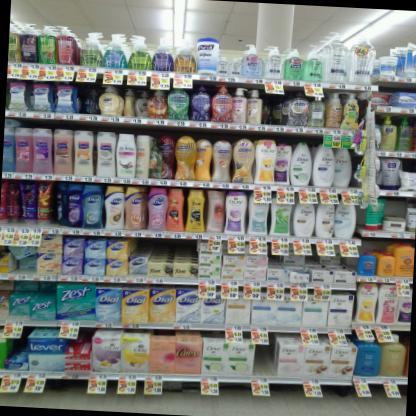empty_space: (252, 336, 277, 395)
